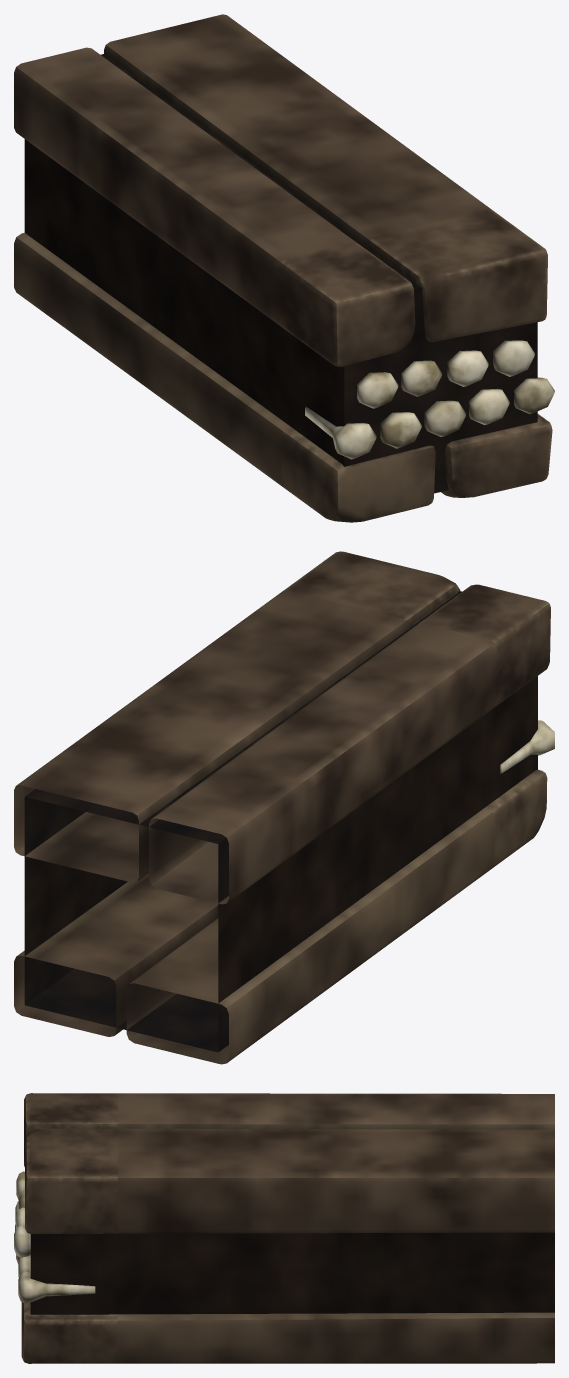
Rendered from Ossuary_Fill_B.fbx.
3 renders of one model, top to bottom at view 1: azimuth 30°, elevation 25°; view 2: azimuth 150°, elevation 25°; view 3: azimuth 270°, elevation 25°, orthographic. The views are drawn at different scales.
Visible parts, largest first — view 1: Ossuary_Fill_B; view 2: Ossuary_Fill_B; view 3: Ossuary_Fill_B.
Part boxes in pixels (box(x1,y1,x2,y2)): Ossuary_Fill_B: box(14, 14, 554, 522); Ossuary_Fill_B: box(14, 551, 554, 1064); Ossuary_Fill_B: box(14, 1093, 554, 1363).
Bounding box in the file's own units: 0.9773 × 0.9836 × 2.54.
